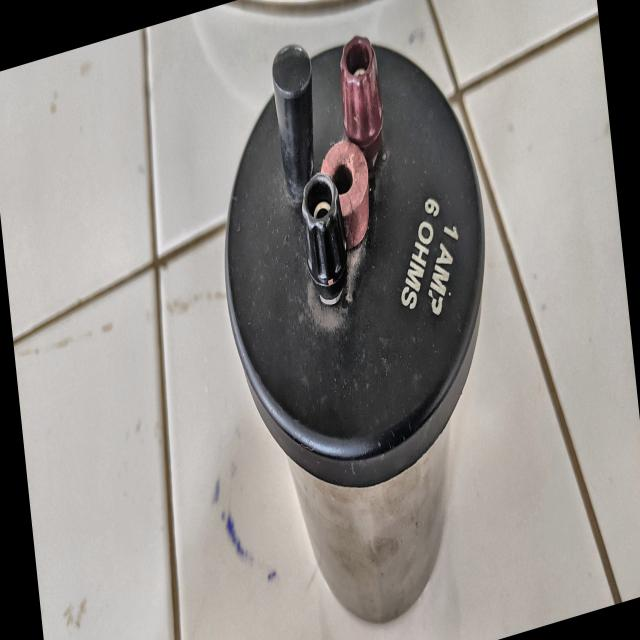Joule-s Calorimeter: (201, 0, 536, 640)
